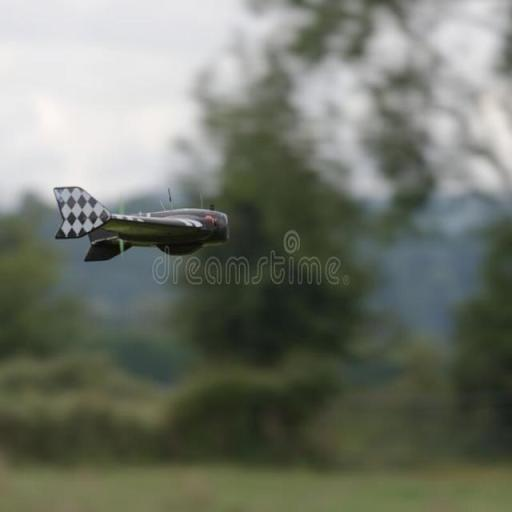uav: (46, 180, 252, 294)
